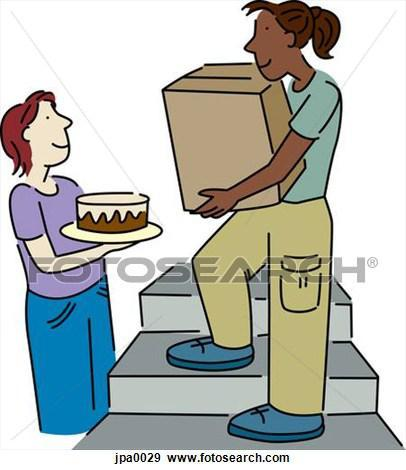person: (188, 2, 346, 447), (1, 86, 126, 428)
